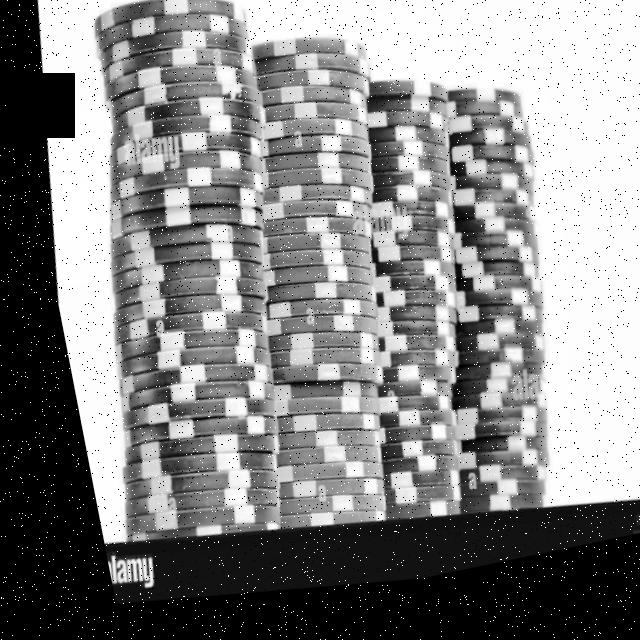Chip: (9, 0, 328, 574), (176, 21, 436, 557), (365, 77, 587, 551), (296, 69, 509, 548)
